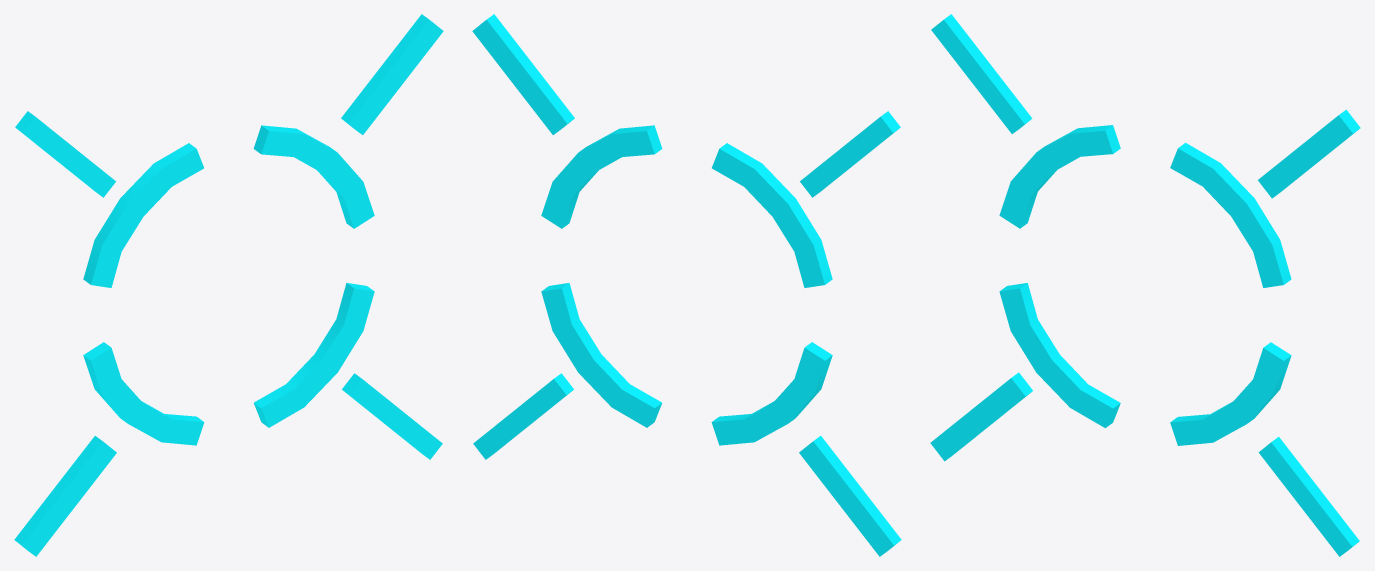
File: SM_Hud_Reticle_03.glb
The picture shows the model from 3 angles, left to right: view 1: azimuth 30°, elevation 25°; view 2: azimuth 150°, elevation 25°; view 3: azimuth 330°, elevation 25°; orthographic projection.
Visible parts, largest first — view 1: SM_Hud_Reticle_03; view 2: SM_Hud_Reticle_03; view 3: SM_Hud_Reticle_03.
Boxes of the visible parts, x1,y1,x2,y2 form: SM_Hud_Reticle_03: (14, 14, 443, 556); SM_Hud_Reticle_03: (472, 14, 901, 556); SM_Hud_Reticle_03: (930, 14, 1360, 556).
Bounding box in the file's own units: 0.3341 × 0.3341 × 0.0105.
